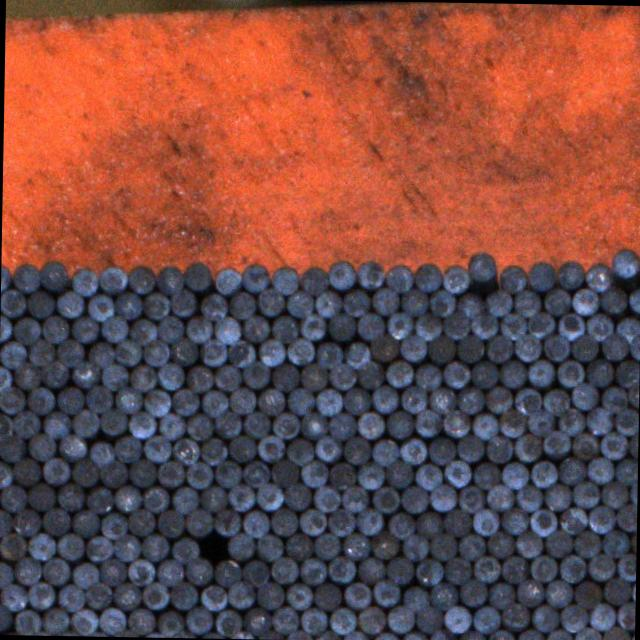tool: (38, 260, 68, 291), (328, 258, 357, 290), (526, 260, 555, 292), (182, 260, 212, 290), (240, 262, 270, 292), (98, 263, 126, 295), (10, 262, 39, 292), (126, 264, 155, 294), (299, 266, 328, 296), (413, 262, 442, 292), (584, 262, 613, 292), (611, 248, 640, 278), (154, 264, 182, 295), (498, 263, 526, 294), (356, 259, 384, 289), (441, 264, 469, 294), (270, 265, 298, 294), (384, 263, 412, 292), (341, 288, 370, 316), (168, 336, 197, 364), (356, 359, 384, 388), (584, 358, 612, 387), (42, 409, 70, 438), (542, 429, 570, 458), (11, 508, 40, 536), (467, 250, 494, 280), (513, 332, 540, 362), (556, 260, 584, 288), (25, 290, 53, 318), (256, 287, 284, 315), (314, 289, 342, 317), (484, 288, 512, 316), (598, 285, 626, 313), (12, 316, 40, 344), (100, 314, 128, 342), (212, 316, 240, 344), (270, 314, 298, 342), (356, 312, 384, 340), (55, 338, 83, 366), (370, 332, 398, 360), (72, 360, 100, 388), (270, 362, 298, 390), (142, 388, 170, 416), (70, 408, 98, 436), (256, 386, 284, 414), (286, 386, 314, 414), (342, 386, 370, 414), (512, 387, 540, 415), (386, 410, 414, 438), (414, 408, 442, 436), (526, 408, 554, 436), (58, 432, 86, 460), (142, 434, 170, 462), (228, 434, 256, 462), (370, 438, 398, 466), (398, 436, 426, 464), (26, 532, 54, 560), (226, 532, 254, 560), (428, 532, 456, 560), (112, 582, 140, 610), (312, 582, 340, 610), (328, 606, 356, 634), (530, 604, 558, 632), (315, 387, 342, 416), (400, 384, 427, 413), (70, 266, 96, 296), (300, 410, 326, 440), (86, 293, 113, 321), (113, 291, 141, 318), (142, 291, 169, 319), (198, 293, 226, 320), (371, 286, 398, 314), (513, 289, 540, 317), (543, 286, 570, 314), (414, 312, 441, 340), (227, 339, 254, 367), (286, 336, 313, 364), (456, 334, 483, 362), (156, 362, 184, 389), (242, 361, 270, 388), (327, 362, 355, 389), (527, 359, 554, 387), (26, 386, 53, 414), (85, 384, 112, 412), (11, 410, 38, 438), (200, 388, 227, 416), (185, 412, 212, 440), (456, 386, 483, 414), (485, 384, 512, 412), (328, 412, 356, 439), (570, 382, 598, 409), (497, 409, 525, 436), (557, 407, 584, 435), (585, 406, 612, 434), (198, 437, 226, 464), (342, 436, 369, 464), (456, 434, 484, 461), (571, 432, 598, 460), (599, 431, 627, 458), (13, 458, 40, 486), (300, 460, 328, 487), (270, 458, 297, 486), (384, 460, 412, 487), (500, 461, 528, 488), (485, 484, 513, 511), (443, 509, 471, 536), (529, 508, 556, 536), (184, 557, 212, 584), (126, 558, 153, 586), (168, 581, 196, 608), (516, 578, 543, 606), (243, 606, 270, 634), (442, 310, 468, 339), (199, 337, 225, 366), (126, 411, 155, 437), (114, 433, 140, 462), (514, 432, 540, 461), (14, 555, 40, 584), (571, 287, 598, 314), (470, 311, 497, 338), (399, 334, 426, 361), (601, 332, 628, 359), (101, 363, 128, 390), (300, 362, 327, 389), (414, 364, 441, 391), (470, 361, 497, 388), (556, 359, 583, 386), (157, 412, 184, 439), (356, 411, 383, 438), (443, 459, 470, 486), (228, 484, 255, 511), (255, 483, 282, 510), (544, 529, 571, 556), (602, 529, 629, 556), (26, 581, 53, 608), (56, 584, 83, 611), (429, 582, 456, 609), (443, 605, 470, 632), (170, 288, 196, 316), (428, 288, 454, 316), (42, 314, 68, 342), (128, 318, 156, 344), (157, 314, 183, 342), (242, 314, 268, 342), (586, 312, 612, 340), (88, 340, 114, 368), (258, 338, 284, 366), (427, 334, 453, 362), (486, 334, 512, 362), (213, 364, 241, 390), (386, 359, 412, 387), (498, 360, 524, 388), (170, 388, 198, 414), (372, 384, 398, 412), (270, 412, 298, 438), (256, 436, 284, 462), (286, 438, 312, 466), (314, 435, 342, 461), (42, 457, 68, 485), (473, 461, 499, 489), (530, 460, 556, 488), (586, 456, 612, 484), (600, 480, 626, 508), (41, 508, 69, 534), (72, 510, 100, 536), (470, 508, 498, 534), (560, 506, 586, 534), (588, 504, 614, 532), (140, 534, 168, 560), (372, 530, 398, 558), (156, 558, 182, 586), (240, 560, 268, 586), (500, 556, 528, 582), (558, 554, 584, 582), (226, 580, 252, 608), (545, 580, 571, 608), (574, 580, 600, 608), (214, 608, 240, 636), (272, 606, 298, 634), (472, 606, 500, 632), (588, 602, 614, 630), (228, 291, 254, 318), (400, 288, 427, 314), (456, 292, 483, 318), (71, 316, 98, 342), (185, 316, 212, 342), (28, 338, 54, 365), (113, 338, 140, 364), (142, 339, 168, 366), (14, 362, 41, 388), (40, 360, 66, 387), (442, 360, 468, 387), (114, 386, 141, 412), (98, 408, 125, 434), (213, 412, 240, 438), (442, 409, 468, 436), (542, 388, 568, 415), (600, 386, 627, 412), (27, 434, 54, 460), (428, 437, 454, 464), (328, 462, 354, 489), (0, 484, 26, 511), (86, 486, 113, 512), (283, 483, 310, 509), (429, 483, 455, 510), (127, 508, 154, 534), (213, 510, 240, 536), (501, 507, 527, 534), (56, 533, 82, 560), (113, 534, 139, 561), (256, 533, 282, 560), (342, 532, 368, 559), (515, 530, 541, 557), (573, 530, 599, 557), (42, 557, 68, 584), (84, 581, 110, 608), (141, 581, 167, 608), (213, 560, 240, 586), (255, 582, 282, 608), (459, 579, 485, 606), (604, 576, 630, 603), (42, 608, 68, 635), (70, 608, 97, 634), (186, 606, 212, 633), (300, 607, 326, 634), (358, 606, 384, 633), (416, 606, 442, 633), (501, 602, 527, 629), (560, 604, 586, 631), (0, 340, 25, 368), (344, 340, 369, 368), (487, 434, 512, 462), (400, 486, 428, 511), (328, 508, 353, 536), (0, 531, 25, 559), (328, 554, 353, 582), (214, 268, 240, 294), (56, 291, 82, 317), (286, 290, 312, 316), (328, 313, 354, 339), (500, 312, 526, 338), (527, 311, 553, 337), (558, 313, 584, 339), (316, 342, 342, 368), (542, 334, 568, 360), (186, 365, 212, 391), (129, 460, 155, 486), (186, 462, 212, 488), (558, 458, 584, 484), (27, 482, 53, 508), (114, 484, 140, 510), (142, 486, 168, 512), (172, 486, 198, 512), (341, 486, 367, 512), (372, 486, 398, 512), (516, 484, 542, 510), (100, 512, 126, 538), (157, 510, 183, 536), (270, 509, 296, 535), (298, 508, 324, 534), (356, 508, 382, 534), (416, 512, 442, 538), (172, 537, 198, 563), (286, 534, 312, 560), (458, 534, 484, 560), (270, 556, 296, 582), (300, 558, 326, 584), (386, 557, 412, 583), (416, 558, 442, 584), (530, 554, 556, 580), (200, 584, 226, 610), (285, 582, 311, 608), (372, 580, 398, 606), (487, 582, 513, 608), (98, 607, 124, 633), (126, 608, 152, 634), (428, 387, 455, 412), (242, 411, 269, 436), (414, 464, 441, 489), (57, 483, 82, 510), (199, 486, 226, 511), (157, 610, 182, 637), (130, 363, 154, 391), (56, 388, 84, 412), (100, 557, 124, 585), (570, 334, 596, 359), (228, 387, 254, 412), (172, 438, 198, 463), (100, 461, 126, 486), (214, 461, 239, 487), (314, 486, 339, 512), (544, 484, 570, 509), (186, 508, 211, 534), (242, 511, 268, 536), (388, 512, 413, 538), (487, 532, 512, 558), (73, 562, 98, 588), (0, 583, 25, 609), (444, 556, 469, 582), (472, 556, 498, 581), (344, 582, 369, 608), (14, 609, 39, 635), (388, 606, 413, 632), (300, 313, 324, 340), (388, 312, 412, 339), (0, 385, 24, 412), (590, 553, 614, 580), (1, 288, 24, 316), (89, 440, 112, 468), (0, 435, 25, 460), (358, 557, 383, 582), (616, 316, 640, 342), (472, 412, 496, 438), (614, 408, 638, 434), (72, 460, 96, 486), (242, 462, 268, 486), (614, 458, 638, 484), (458, 486, 482, 512), (572, 482, 598, 506), (86, 536, 112, 560), (314, 532, 338, 558), (403, 534, 427, 560), (403, 586, 427, 612), (615, 361, 639, 386), (158, 461, 182, 486), (357, 464, 382, 488), (616, 553, 636, 580), (616, 504, 636, 530), (617, 602, 635, 628), (602, 625, 629, 640), (574, 626, 600, 640), (518, 627, 543, 640), (628, 285, 640, 312), (546, 628, 571, 640), (0, 314, 11, 341), (0, 413, 11, 440), (458, 629, 485, 640), (487, 629, 514, 640), (0, 462, 11, 488), (0, 561, 11, 587), (429, 629, 455, 640), (0, 364, 10, 392), (0, 604, 11, 629), (0, 509, 9, 536)
void: (194, 532, 227, 560)
